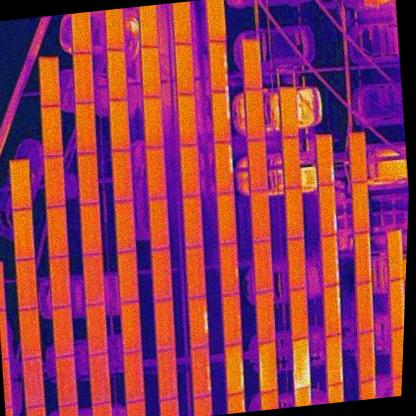Diode: (188, 346, 214, 398), (211, 140, 236, 194), (222, 341, 247, 394), (186, 296, 211, 348), (209, 90, 233, 142), (316, 182, 339, 235), (290, 337, 313, 389), (322, 333, 345, 385), (318, 235, 341, 286), (314, 134, 337, 185), (321, 284, 343, 336)
Hotspot: (216, 242, 242, 294), (206, 39, 231, 92)
Normal: (53, 353, 80, 408), (182, 245, 209, 299), (74, 150, 101, 204), (41, 154, 68, 208), (244, 136, 270, 192), (109, 148, 135, 204), (38, 104, 66, 156), (50, 306, 77, 359), (16, 307, 43, 360), (47, 256, 74, 309), (77, 202, 104, 255), (9, 207, 36, 260), (154, 348, 181, 401), (152, 298, 178, 353), (80, 251, 106, 306), (72, 101, 98, 156), (13, 256, 39, 310), (113, 199, 139, 253), (143, 145, 169, 199), (106, 98, 132, 152), (36, 55, 63, 107), (86, 350, 112, 404), (83, 302, 108, 358), (282, 185, 308, 238), (7, 158, 33, 211), (69, 51, 96, 102), (180, 194, 205, 249), (255, 338, 280, 393), (246, 190, 272, 242), (103, 48, 129, 100), (220, 292, 245, 346), (118, 300, 143, 354), (150, 248, 175, 302), (147, 196, 172, 250), (44, 204, 69, 258), (177, 144, 202, 198), (242, 86, 267, 140), (175, 92, 200, 146), (138, 44, 163, 98), (354, 330, 379, 384), (121, 348, 146, 402), (251, 239, 276, 292), (276, 84, 301, 137), (140, 95, 165, 148), (214, 192, 239, 244), (21, 356, 46, 408), (116, 250, 140, 304), (280, 136, 304, 190), (172, 42, 196, 96), (287, 288, 311, 340), (284, 238, 308, 290), (254, 290, 277, 344), (350, 231, 373, 284), (346, 131, 369, 183), (239, 38, 262, 90), (353, 280, 375, 334), (349, 181, 372, 232), (385, 230, 406, 282), (386, 278, 406, 329), (387, 326, 404, 379)
